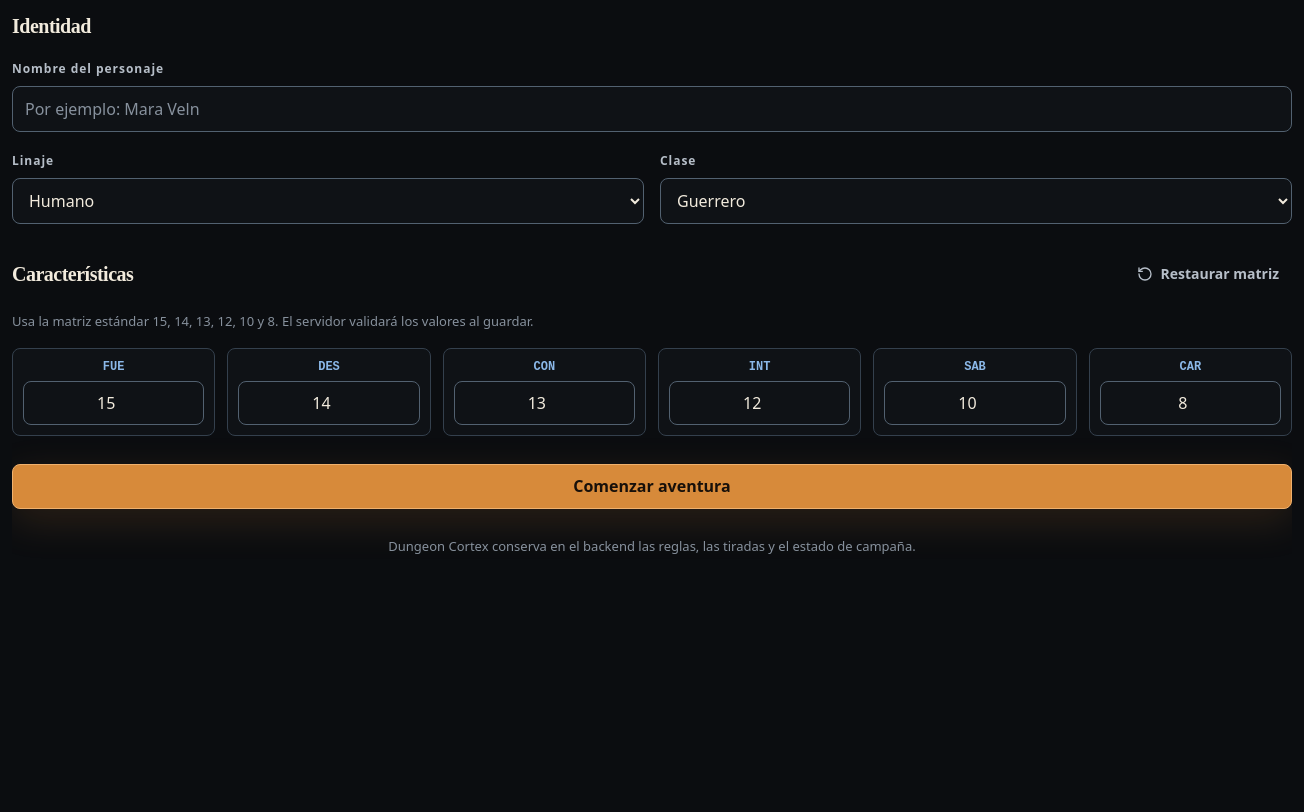
CharacterCreationForm › presenta en español los errores de creación recibidos de la API
In the field labelled "Nombre del personaje": (652, 109) [12,86,1292,132], type "Mira"
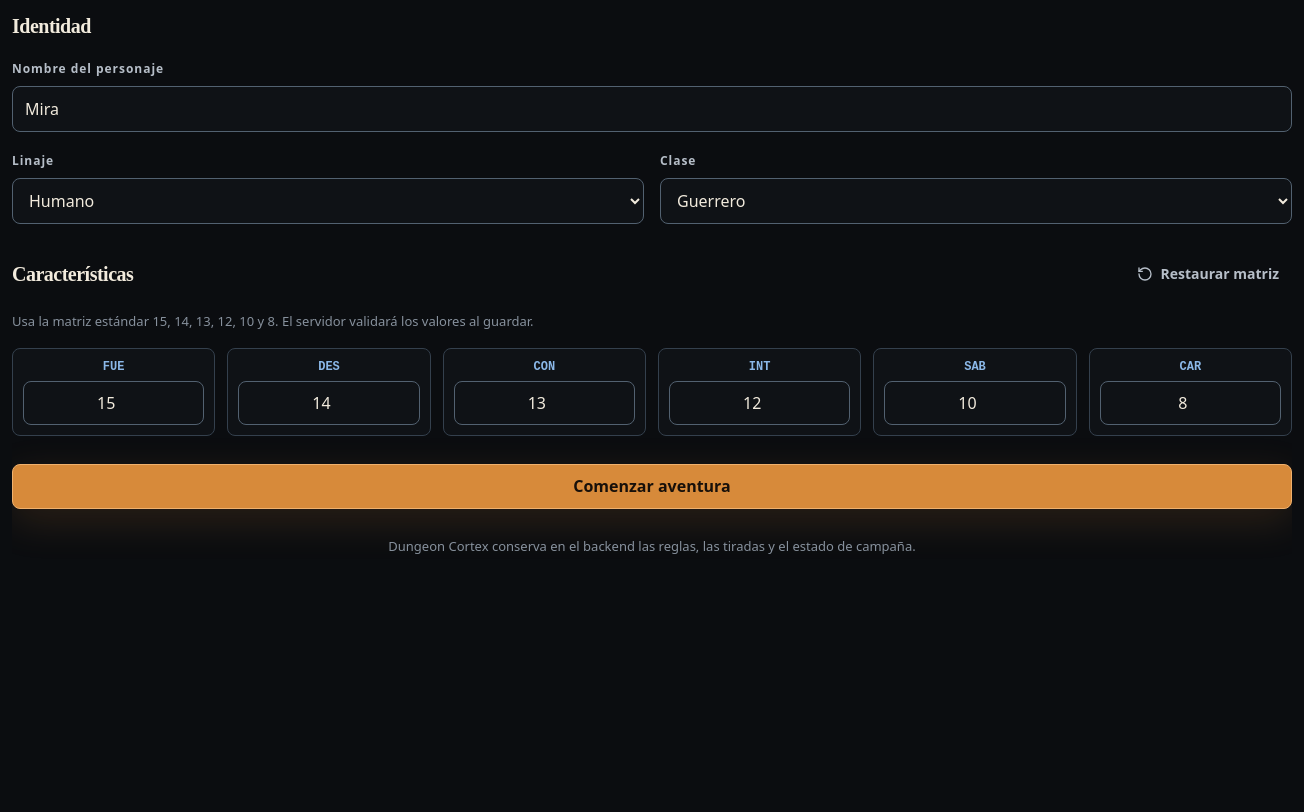
Click the button "Comenzar aventura": (652, 486) [12,464,1292,509]
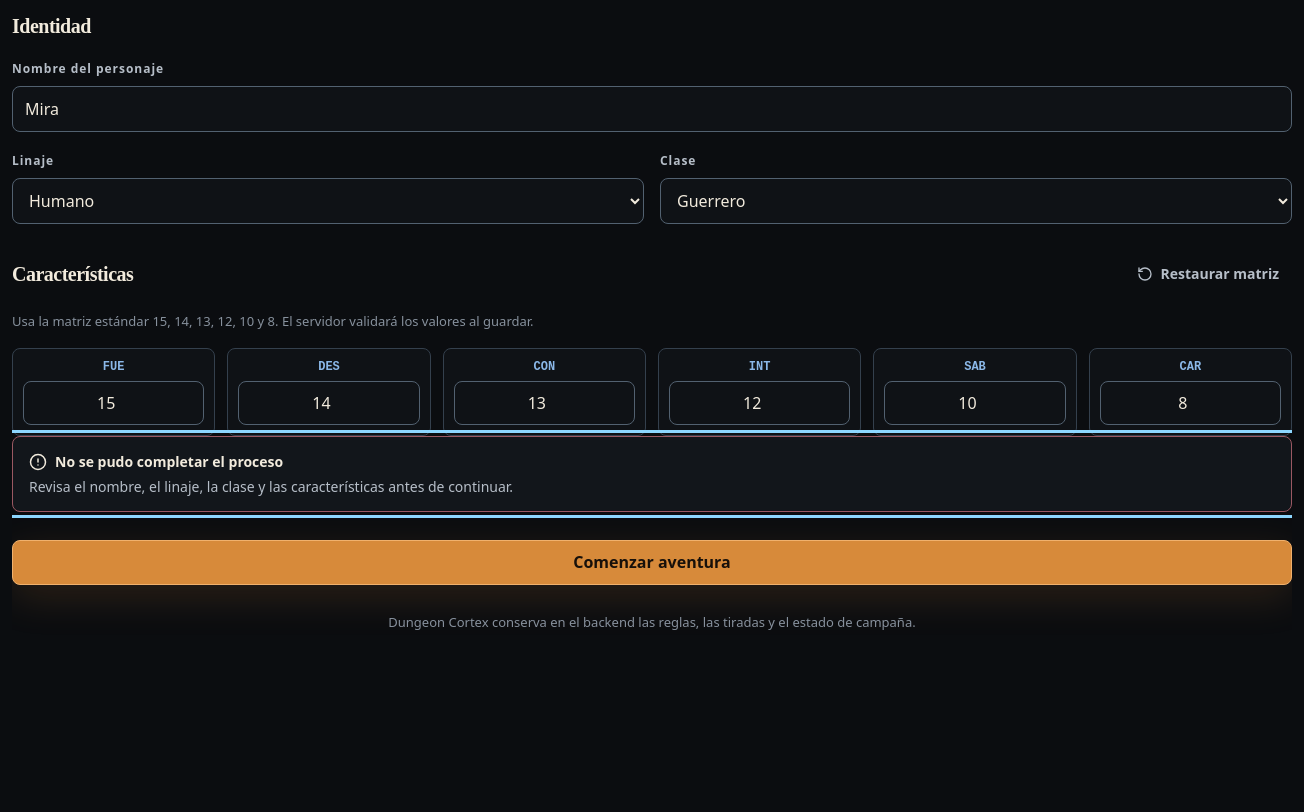
Expected: the message does not show "name is required.", [12,436,1292,512]
Result: the message shows "Revisa el nombre, el linaje, la clase y las características antes de continuar." at [29,476,513,496]
